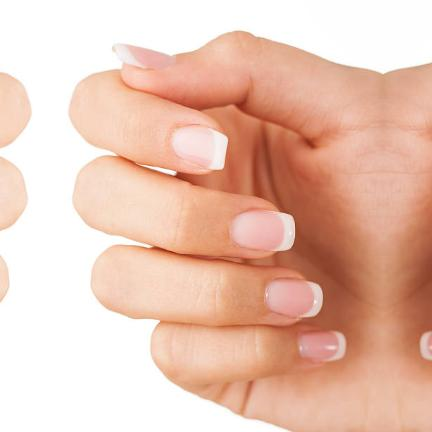Nail: (230, 210, 295, 252), (170, 125, 228, 170), (264, 280, 323, 318), (111, 43, 175, 69), (296, 331, 347, 363), (419, 331, 432, 362)
